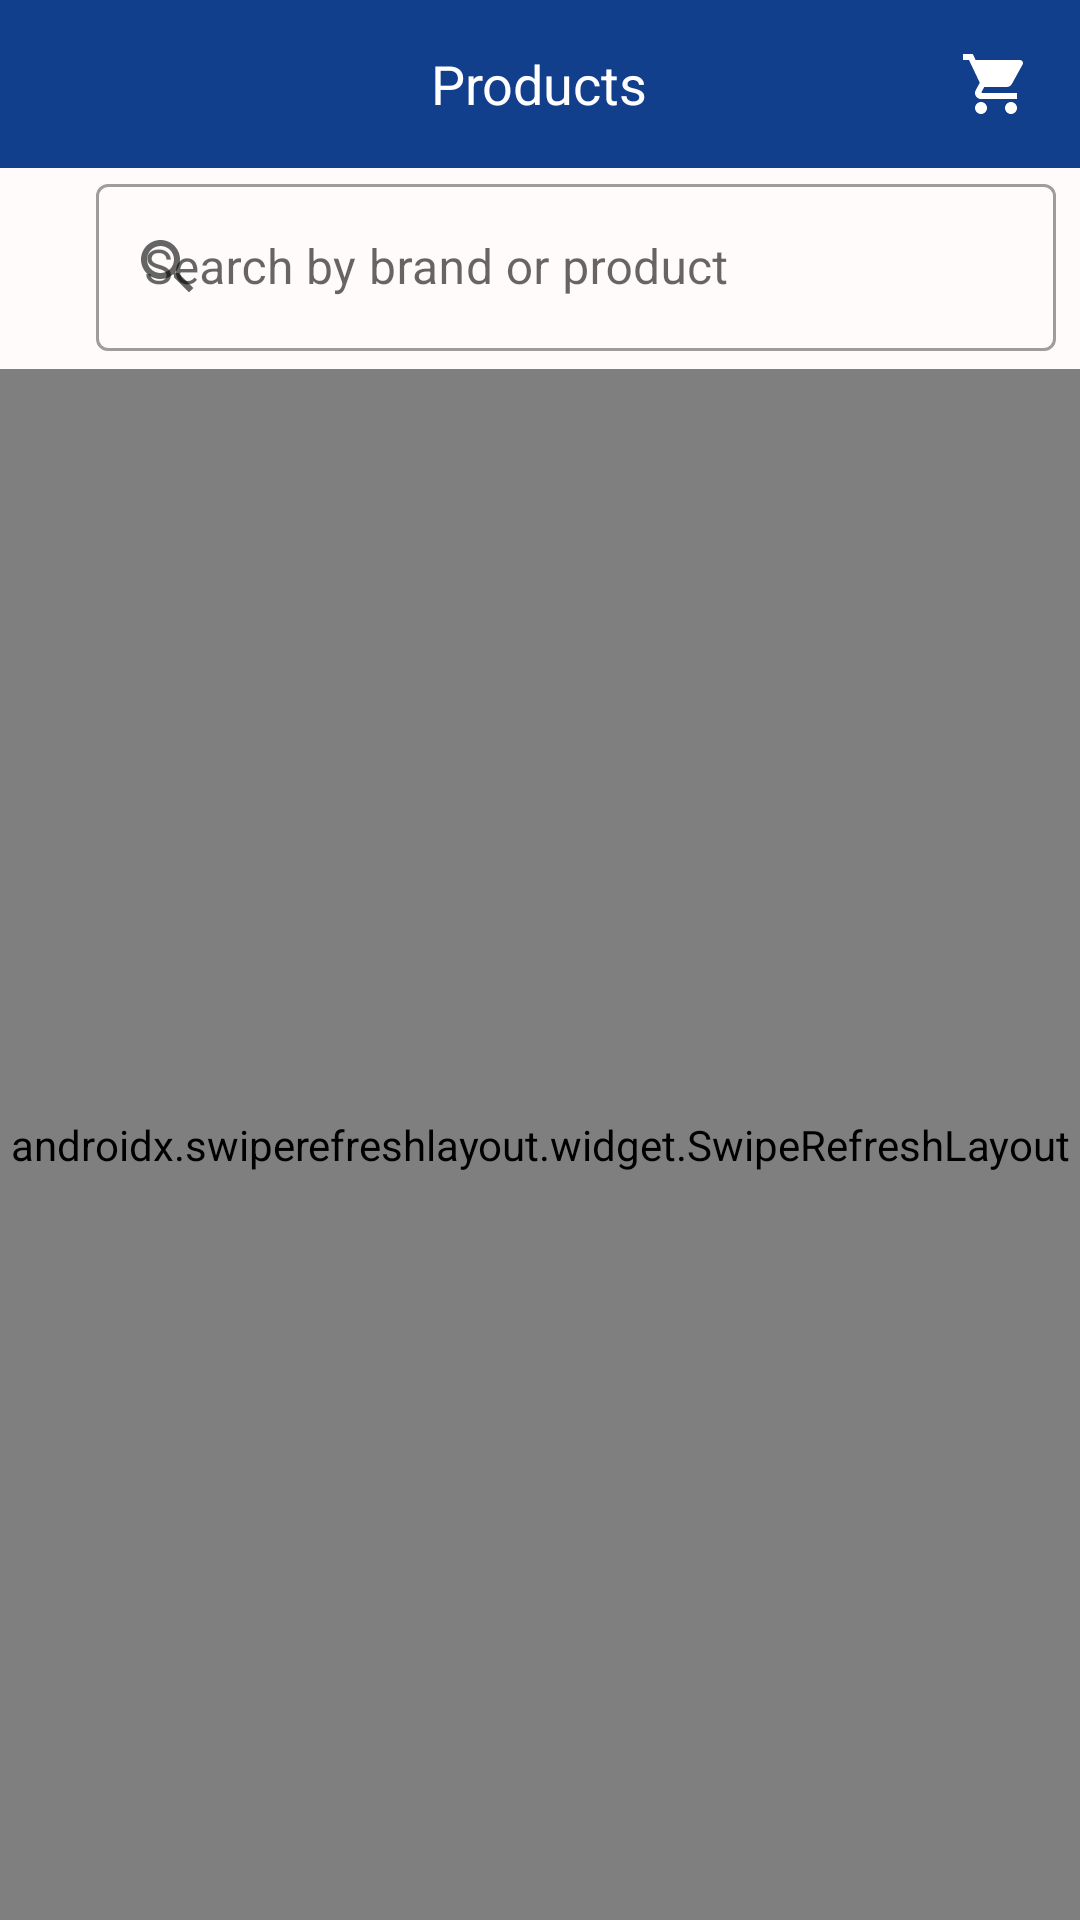

Screen size 1080 x 1920. Icon name, then its center in pixels as point (x, y):
shopping cart: point (993, 84)
